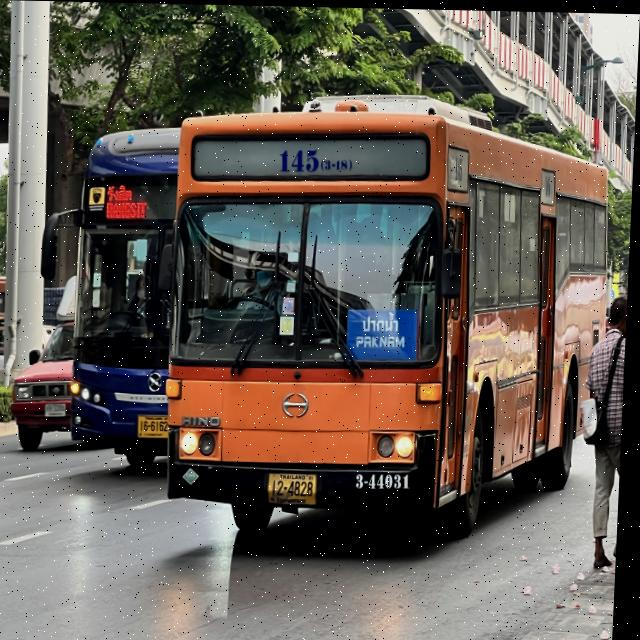BMTA-bus: (148, 78, 621, 545)
Bus-Line-Number: (275, 143, 356, 175)
Destination-Sign-Normal: (350, 310, 423, 363), (107, 182, 155, 223)
TSB-Bus: (68, 120, 186, 462)
